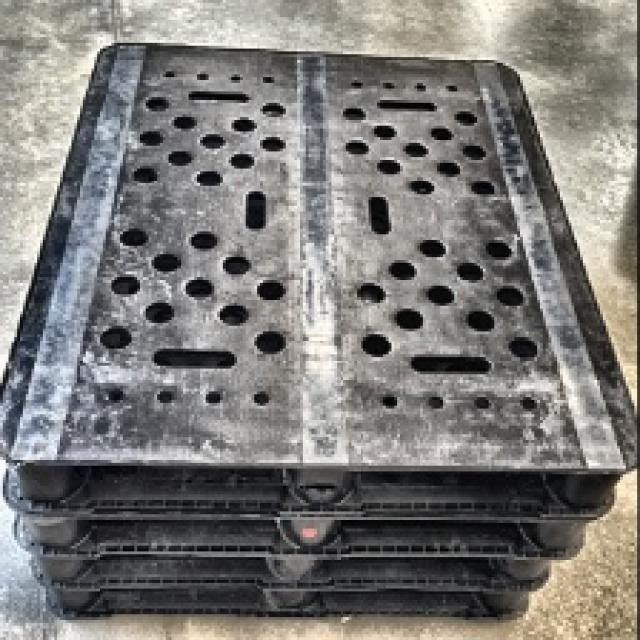igps: (0, 38, 640, 532), (0, 477, 629, 566), (24, 547, 558, 603), (38, 585, 539, 627)
